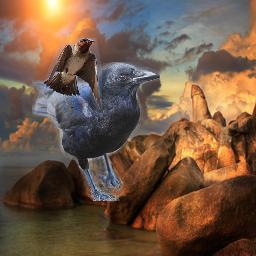Crow: (32, 62, 160, 201)
Swallow: (44, 38, 102, 110)
